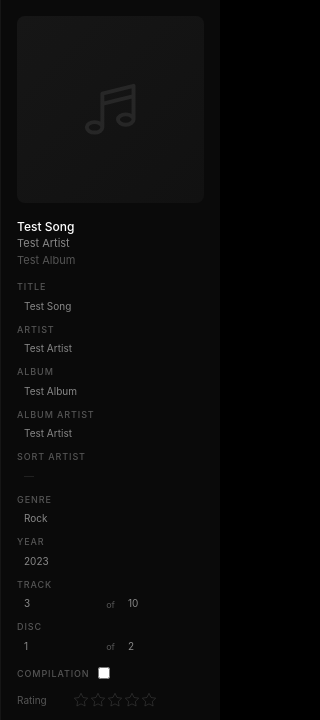
TrackDetailPanel › enters edit mode on click
Step 1. Click the text "Rock" → [36, 518], box [24, 512, 48, 524]
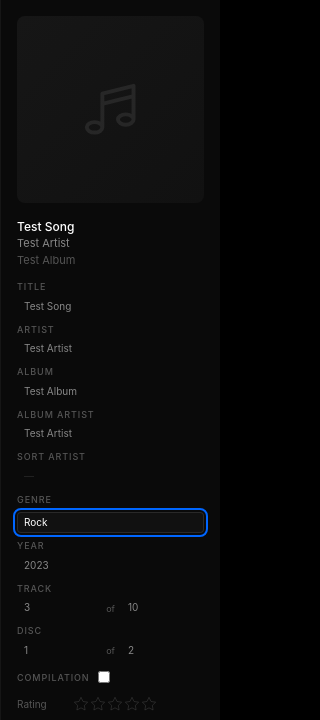
Now the field showing "Rock" is shown, box [17, 512, 204, 533]
